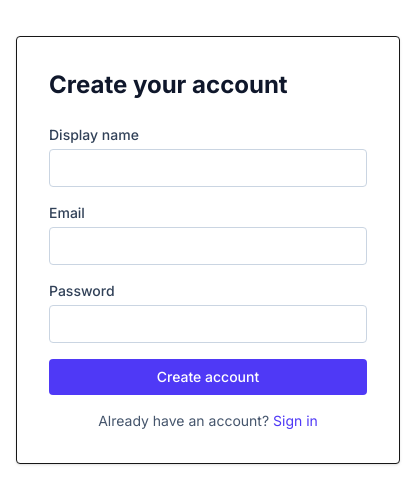
Scenario: RegisterPage › shows email required error and blocks submission when email is empty
Type "Alice" into the field labelled "Display name". click: (208, 168)
box: [49, 149, 367, 187]
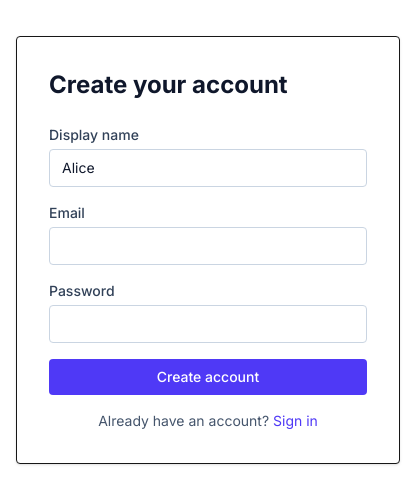
Type "password123" into the password field labelled "Password". click: (208, 324)
box: [49, 305, 367, 343]
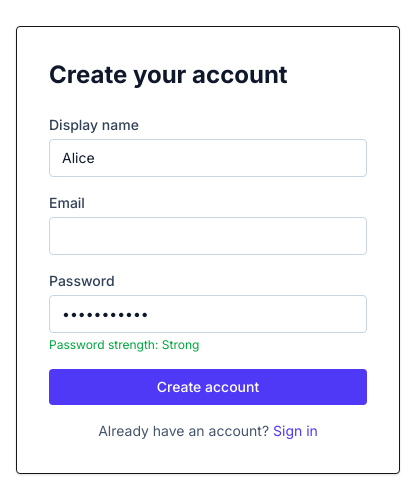
Click the button "Create account". click: (208, 387)
box: [49, 369, 367, 405]
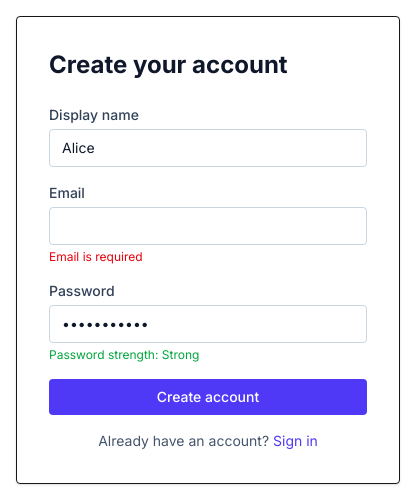
Expected: the text "Email is required" is shown, [49, 249, 143, 264]
